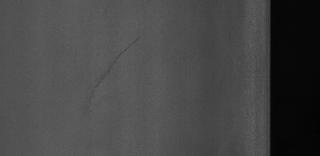water spot: (78, 34, 148, 122)
